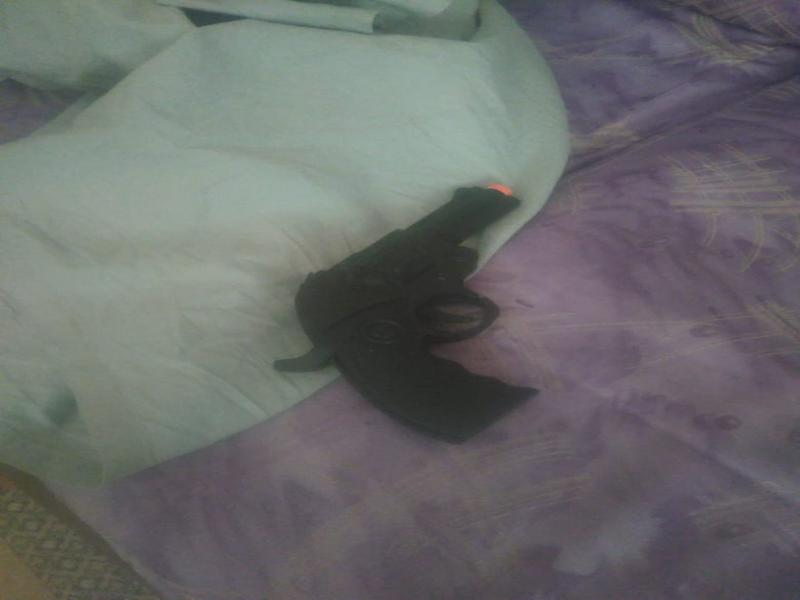gun: (268, 171, 609, 455)
